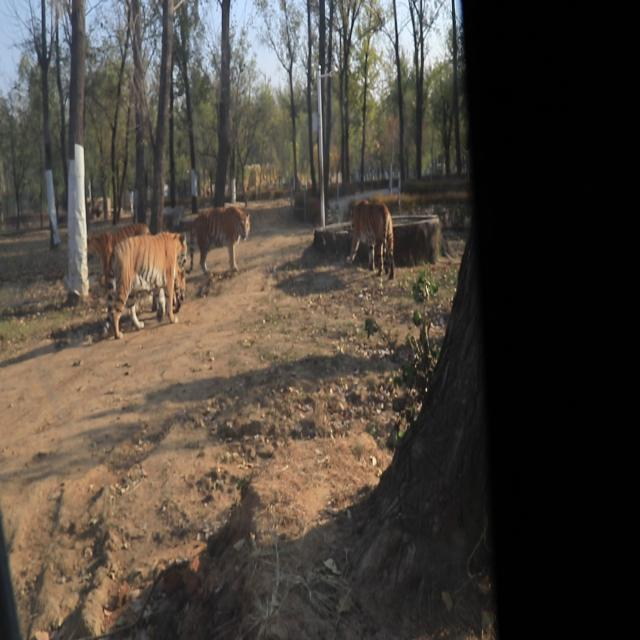Tiger: (104, 225, 192, 336), (186, 197, 254, 277), (347, 196, 399, 277), (80, 214, 156, 262)
